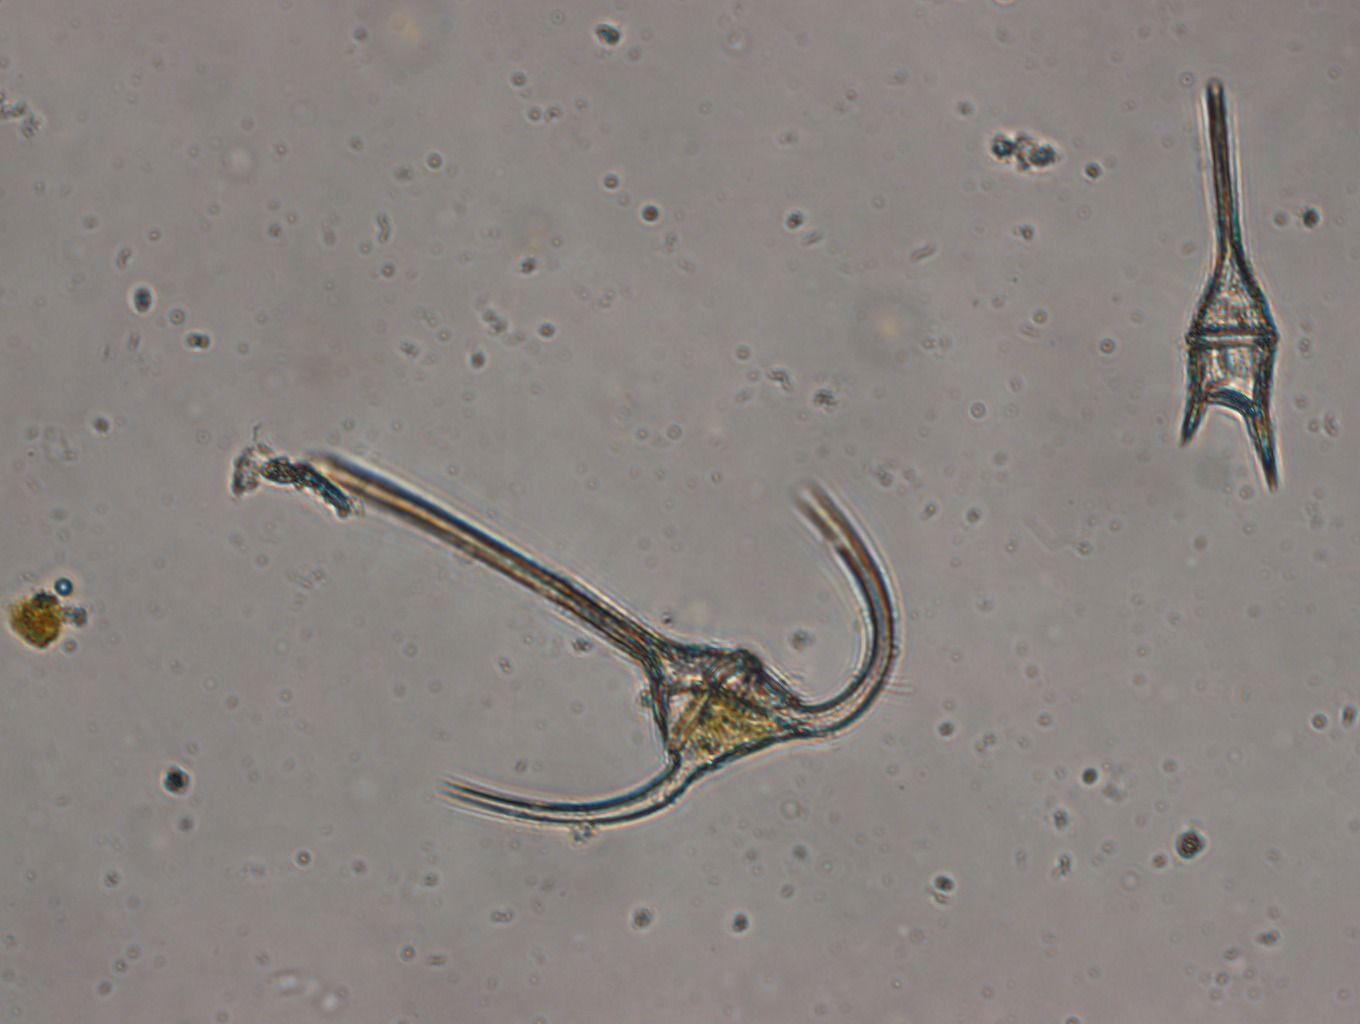ceratium furca: (1173, 65, 1286, 509)
ceratium trichoceros: (307, 437, 910, 830)
